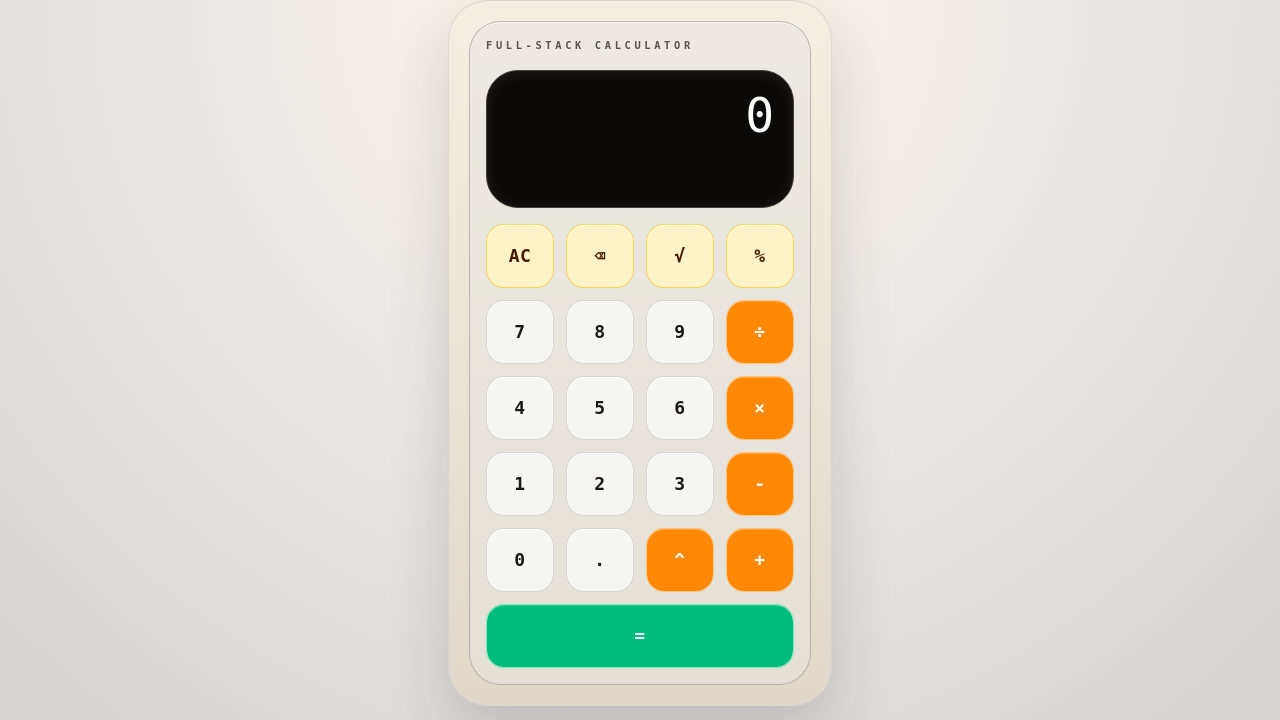
Calculator › performs a basic calculation through the API
The image size is (1280, 720).
Click the button "2".
click(600, 484)  # box [566, 452, 634, 516]
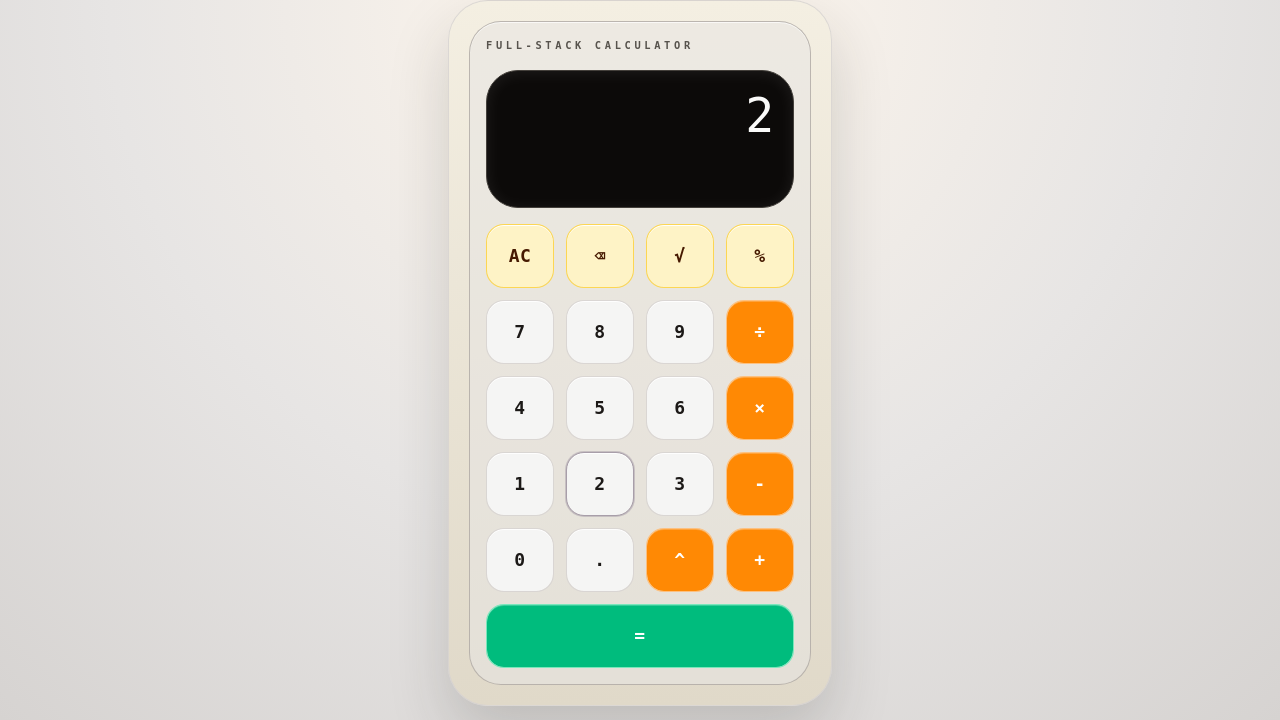
Click the button "+".
click(760, 560)  # box [726, 528, 794, 592]
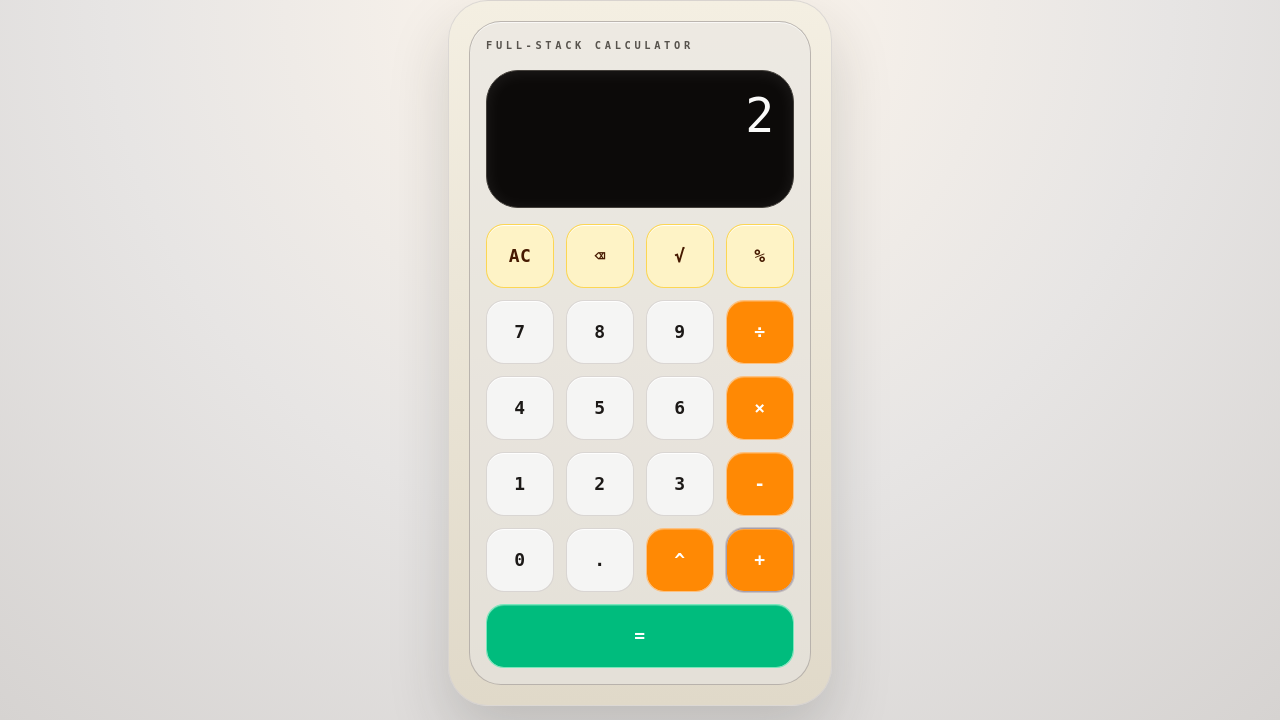
Click the button "2".
click(600, 484)  # box [566, 452, 634, 516]
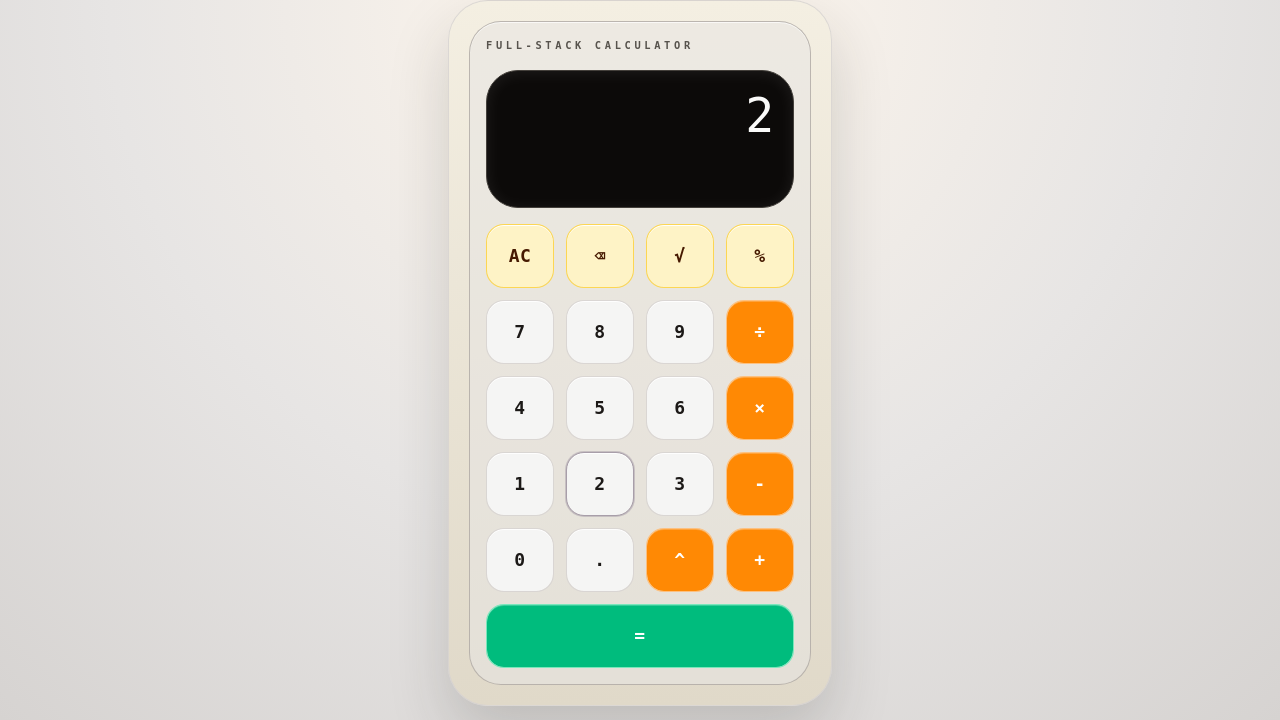
Click the button "=".
click(640, 636)  # box [486, 604, 794, 668]
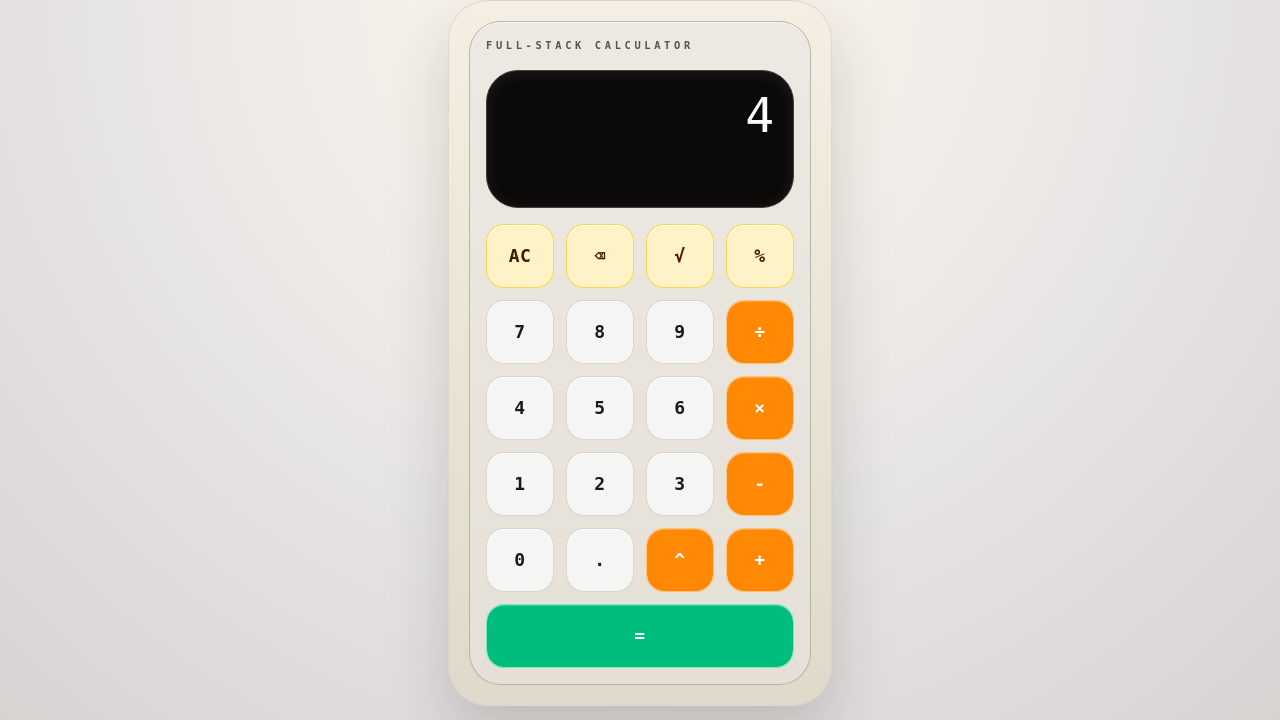
Result: the text named "calculator display" reads "4" at [745, 87, 773, 143]
